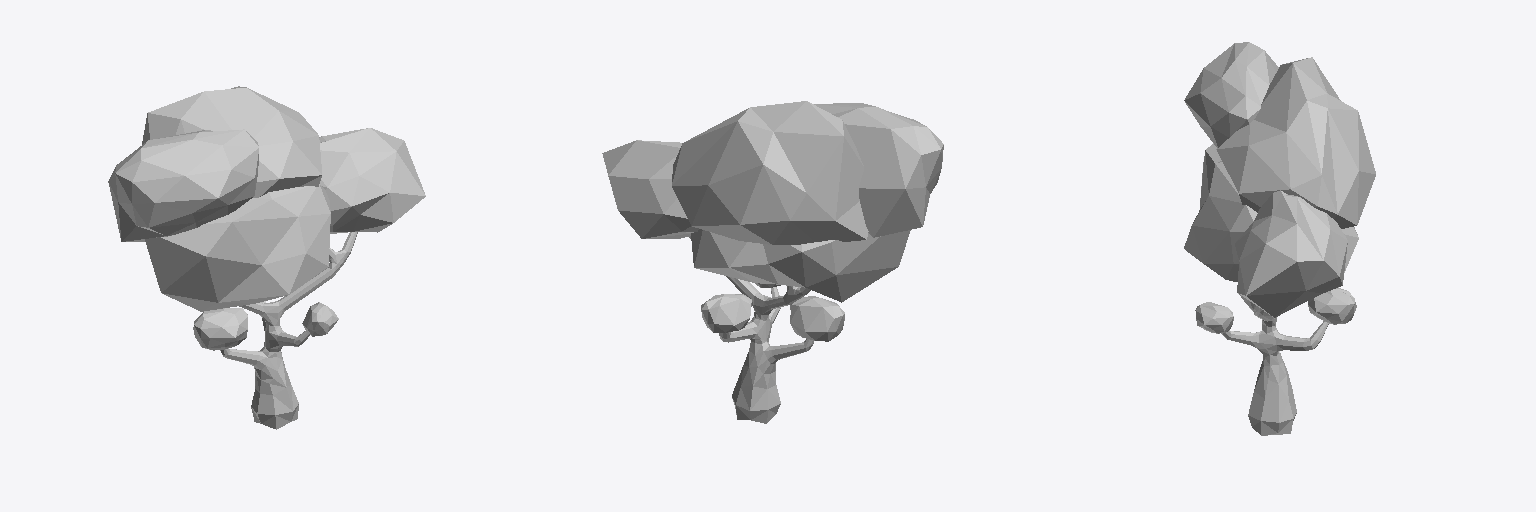
The model's file is Tree2.3.obj.
3 views of the same model, side by side, from view 1: azimuth 30°, elevation 25°; view 2: azimuth 150°, elevation 25°; view 3: azimuth 270°, elevation 25° (orthographic).
Visible parts, largest first — view 1: Leafs.001_Cube.001, trunk.002_Cube.002; view 2: Leafs.001_Cube.001, trunk.002_Cube.002; view 3: Leafs.001_Cube.001, trunk.002_Cube.002.
Boxes of the visible parts, box(x1,y1,x2,y2) form: Leafs.001_Cube.001: box(108, 86, 425, 350); trunk.002_Cube.002: box(220, 232, 357, 429); Leafs.001_Cube.001: box(602, 101, 943, 341); trunk.002_Cube.002: box(689, 236, 813, 423); Leafs.001_Cube.001: box(1184, 42, 1375, 333); trunk.002_Cube.002: box(1221, 304, 1328, 435).
Size of the model in its own units: 5.67 by 5.9 by 3.02.